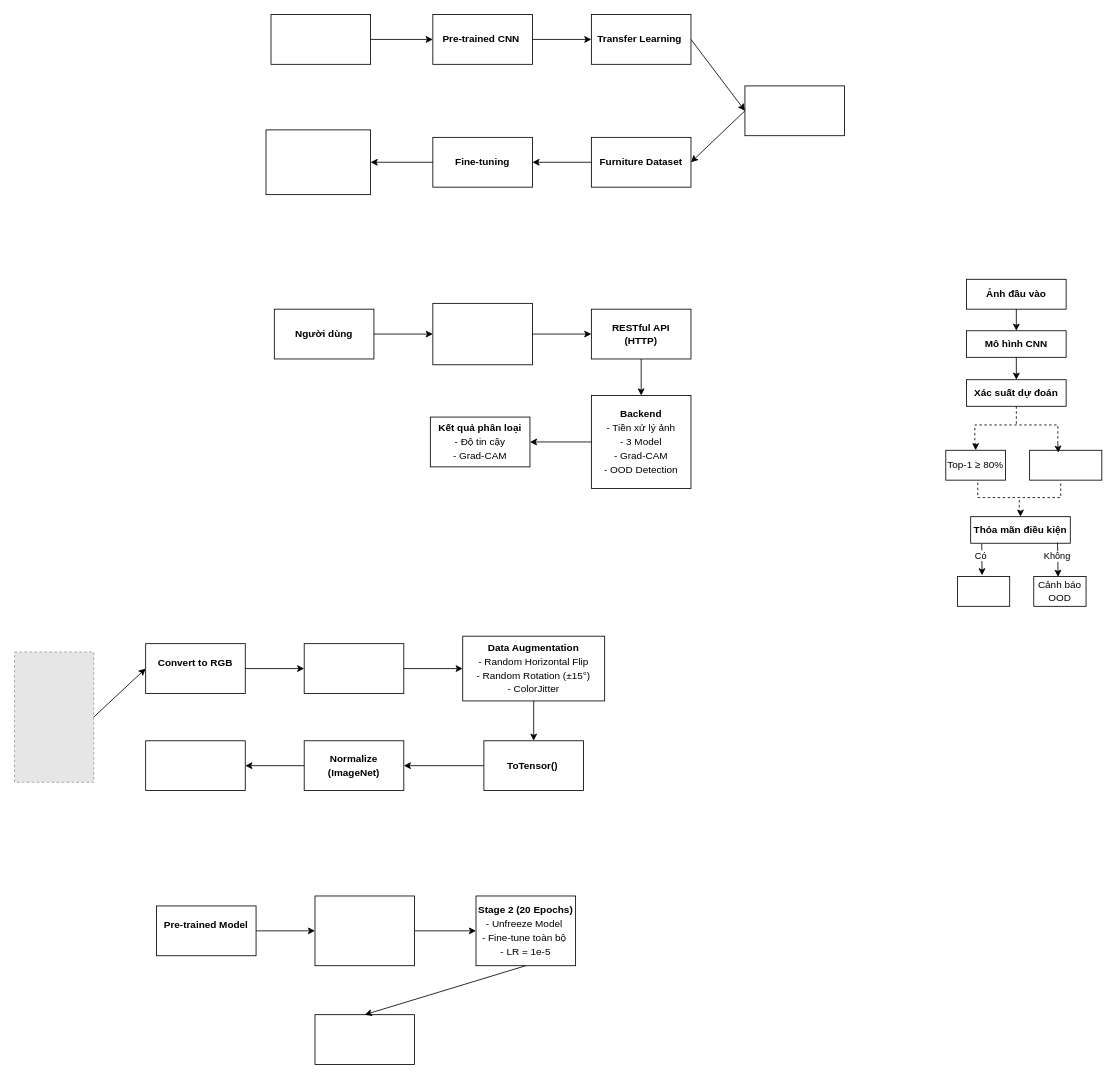
Some shapes in this 1116 by 1079 pixel diagram are drawn without their labels. Grey dashed boxes stand in for pictures. The centre of each missing label's shape, as x and y in pixels:
Best Model (.pth): [364,1039]
Frontend - Upload ảnh - Chọn mô hình CNN - Hiển thị kết quả: [482,334]
Furniture Classification Model: [318,162]
ImageNet Dataset: [320,39]
Kết quả phân loại: [983,591]
Margin ≥ 25%: [1065,464]
Replace Classification Layer: [794,110]
Resize (224x224): [353,668]
Stage 1 (10 Epochs) - Freeze Backbone - Train Classifier - LR = 1e-3: [364,930]
Ảnh đầu vào mô hình CNN: [195,765]
